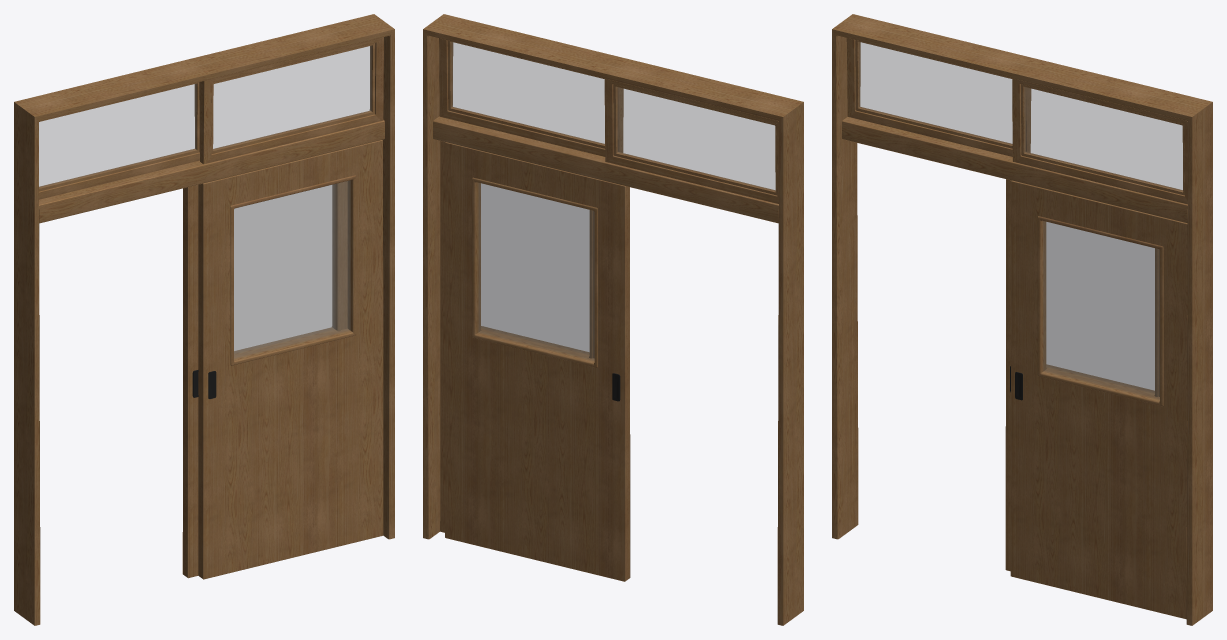
The model's file is Partition_01_Opened.FBX.
3 renders of one model, left to right at view 1: azimuth 30°, elevation 25°; view 2: azimuth 150°, elevation 25°; view 3: azimuth 330°, elevation 25°, orthographic.
Visible parts, largest first — view 1: Partition_01_Opened; view 2: Partition_01_Opened; view 3: Partition_01_Opened.
Part boxes in pixels (<box>): Partition_01_Opened: <box>14,14,394,625</box>; Partition_01_Opened: <box>423,14,803,625</box>; Partition_01_Opened: <box>832,14,1212,625</box>.
Bounding box in the file's own units: 200 × 270 × 20.
